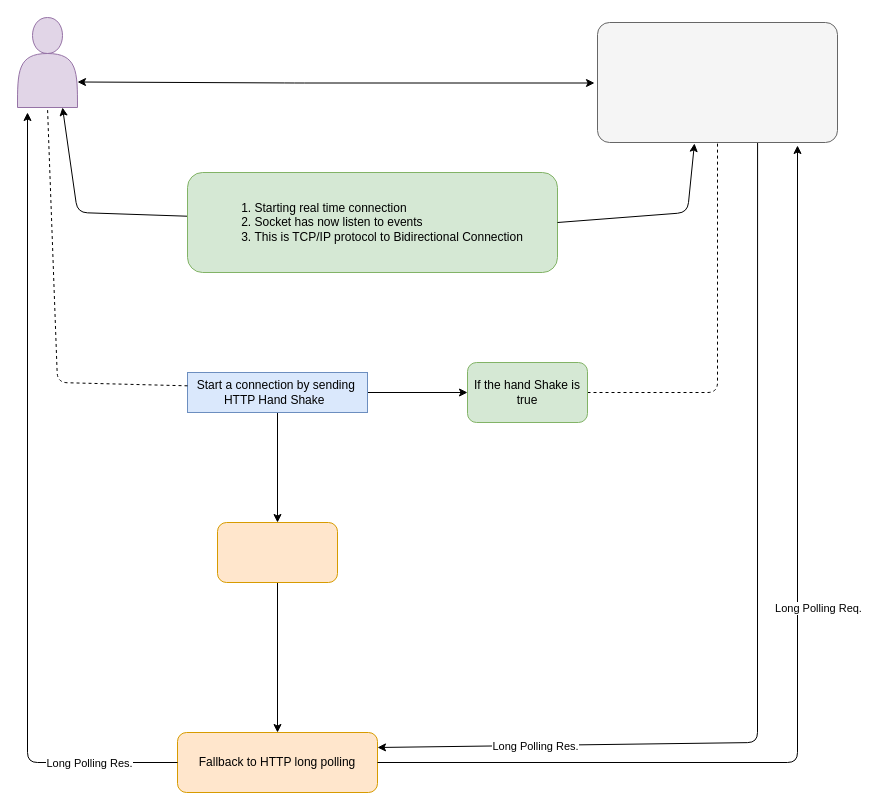
Image size: 879x810. Some labels were removed from this diagram. The centre of each missing label's shape, as x and y in pixels:
"System [Backend] Description of software system." belongs at point 717,82.
"The hand Shake is false" belongs at point 277,552.
